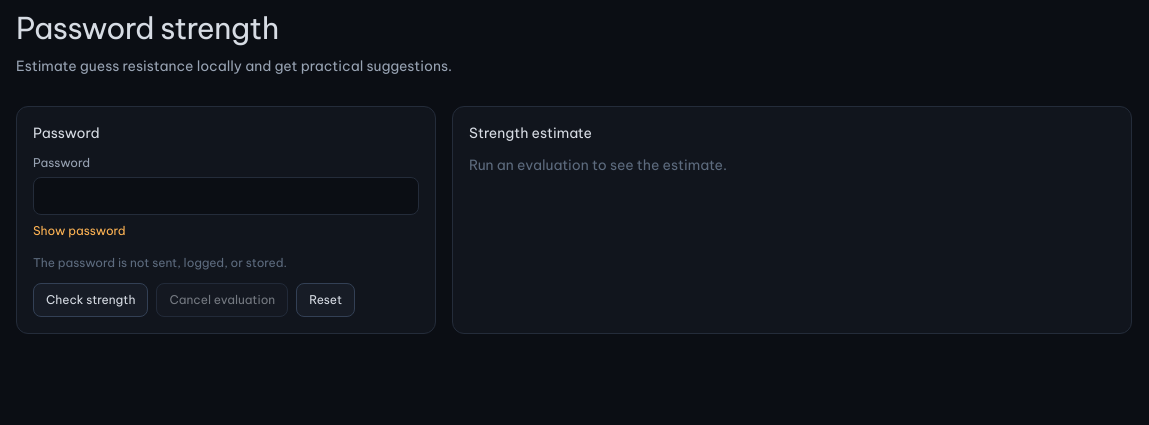
Test: Password strength tool › evaluates in a worker without receiving the password back
In the password field labelled "Password": (226, 196) [33,177,419,215], type "correct horse battery staple"
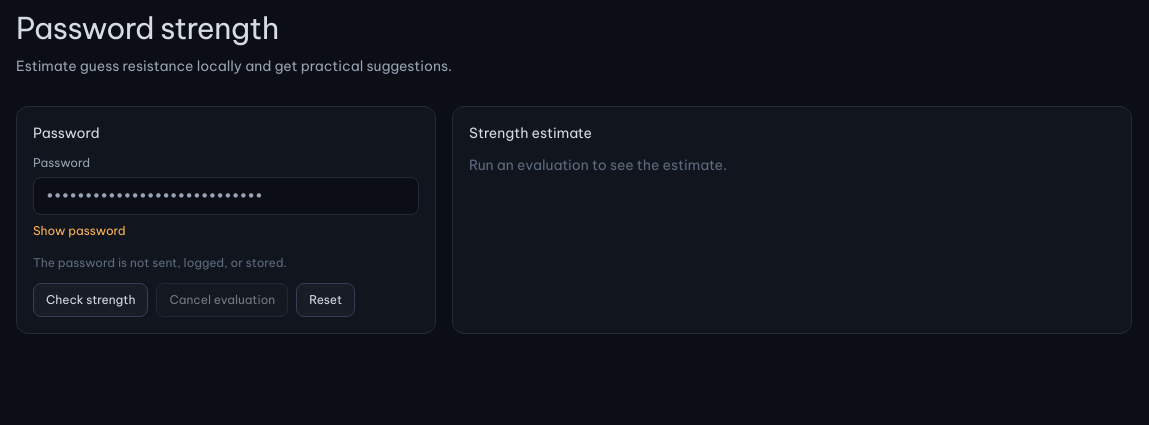
Click the button "Check strength": (91, 300) [33,283,148,317]
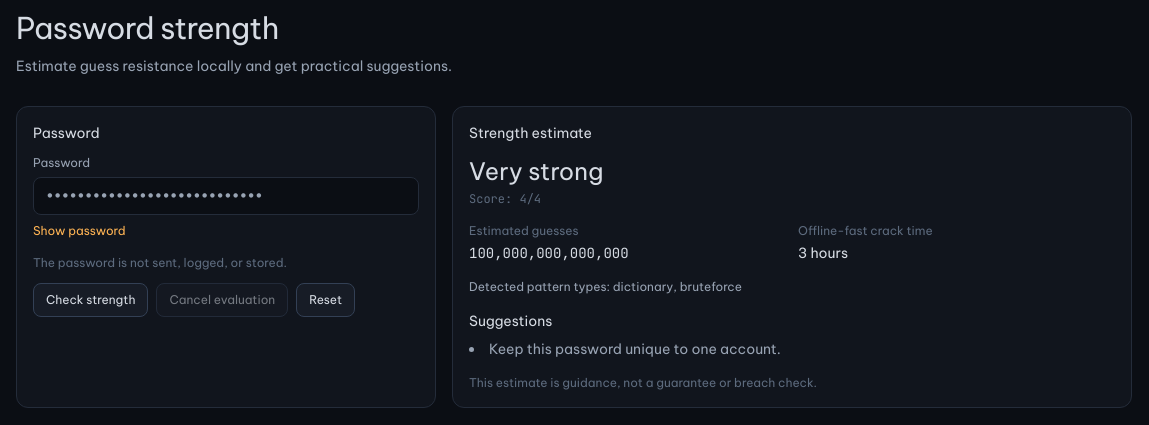
Expected: the text "Very strong" is shown, [469,156,603,186]
Expected: the list item "Keep this password unique to one account." is shown, [489,340,781,358]
